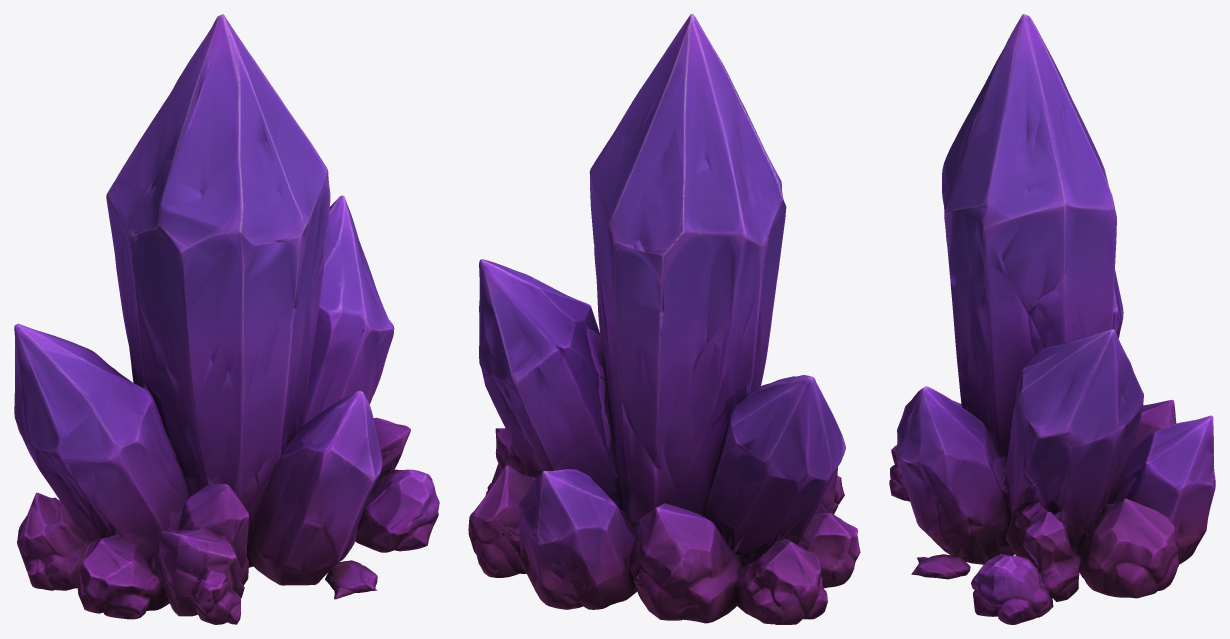
Rendered from cristal_morado.glb.
3 renders of one model, left to right at view 1: azimuth 30°, elevation 25°; view 2: azimuth 150°, elevation 25°; view 3: azimuth 270°, elevation 25°, orthographic. The views are drawn at different scales.
Parts seen in each view (by area): view 1: cristal_morado; view 2: cristal_morado; view 3: cristal_morado.
Boxes of the visible parts, <box> form: cristal_morado: <box>14,14,439,624</box>; cristal_morado: <box>468,14,860,624</box>; cristal_morado: <box>889,14,1215,624</box>.
Size of what is drawn, in the model's own units: 0.7104 by 1 by 0.5687.
Materials: 1 (1 with a texture image).
